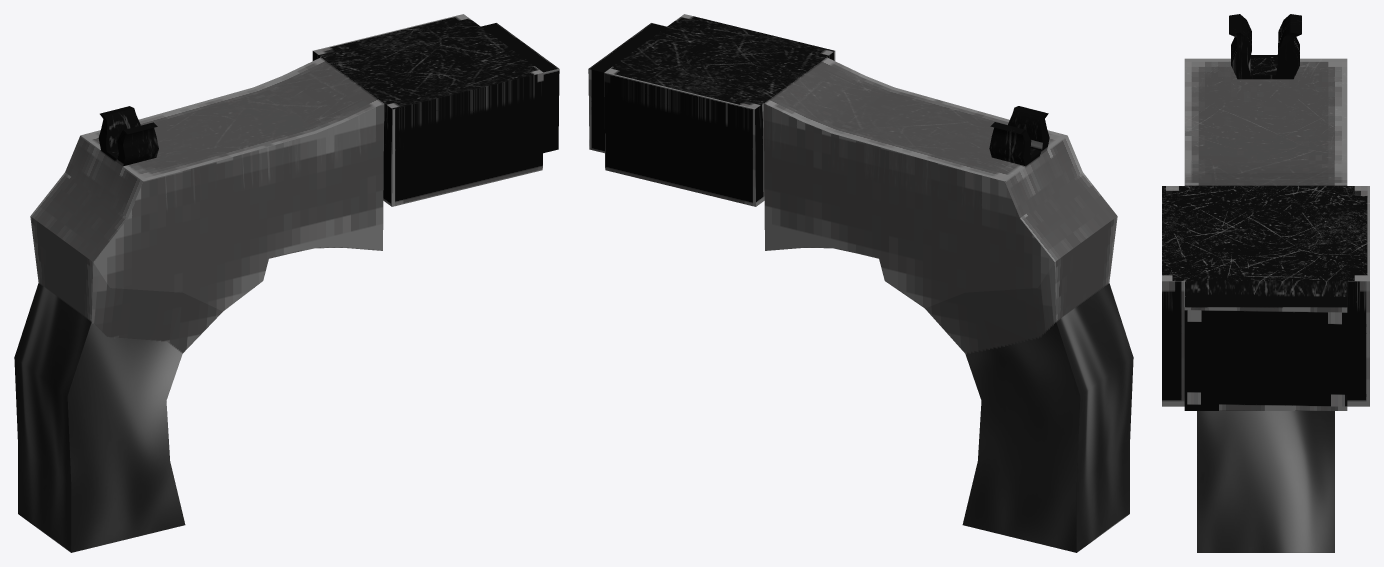
Rendered from Gun.fbx.
The picture shows the model from 3 angles, left to right: view 1: azimuth 30°, elevation 25°; view 2: azimuth 150°, elevation 25°; view 3: azimuth 270°, elevation 25°; orthographic projection. The views are drawn at different scales.
Visible parts, largest first — view 1: pCube1; view 2: pCube1; view 3: pCube1.
Part boxes in pixels (x1,y1,x2,y2): pCube1: (14, 14, 559, 552); pCube1: (588, 14, 1133, 552); pCube1: (1162, 14, 1369, 552).
Size of the model in its own units: 1.37 by 1.06 by 0.3903.
1 material, 1 textured.
